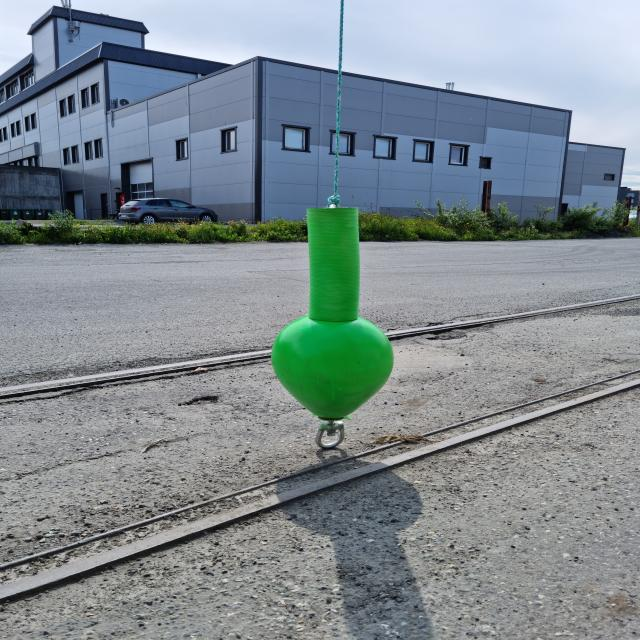green: (269, 207, 394, 421)
